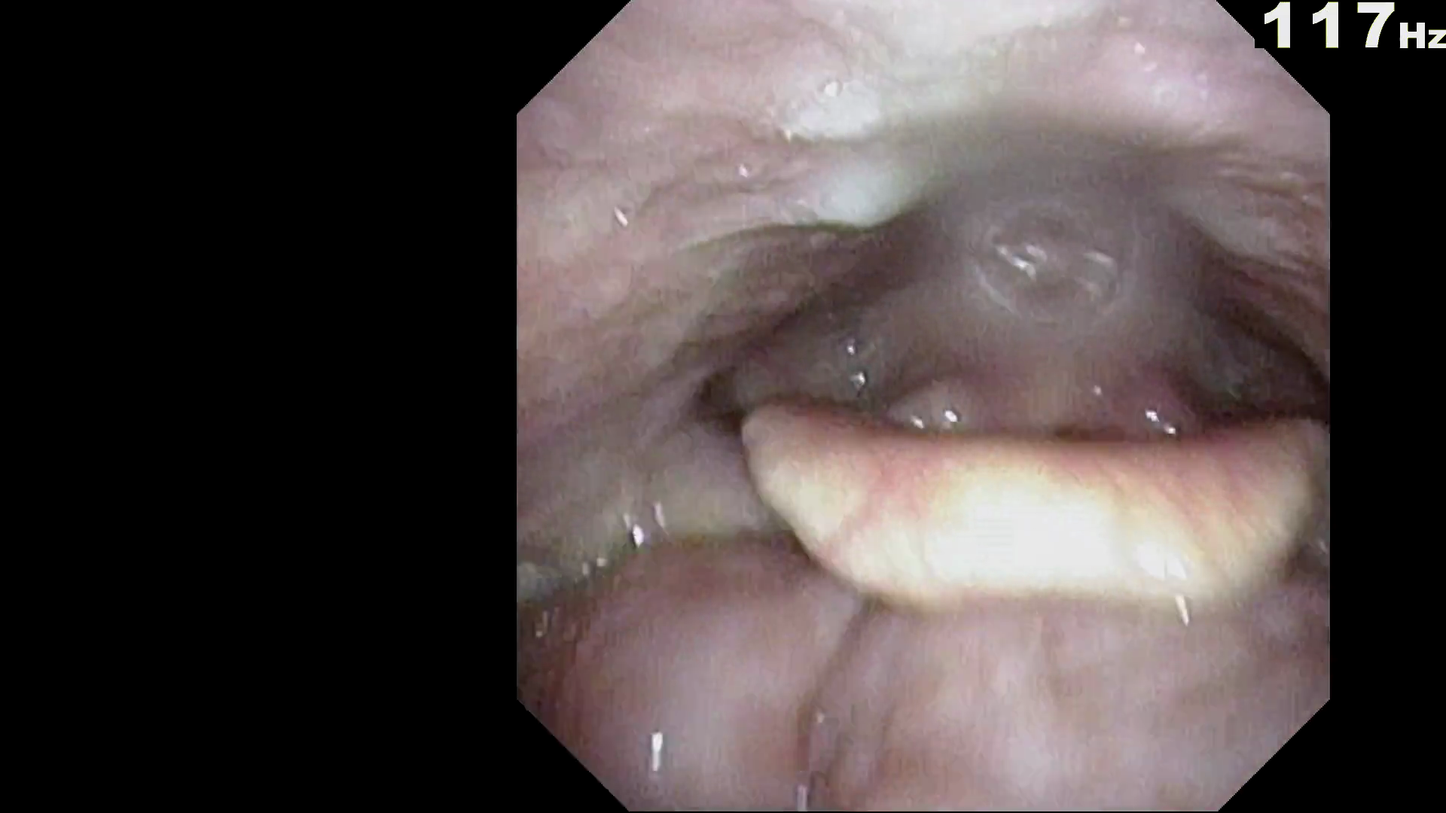epiglottis: (709, 408, 1296, 663)
